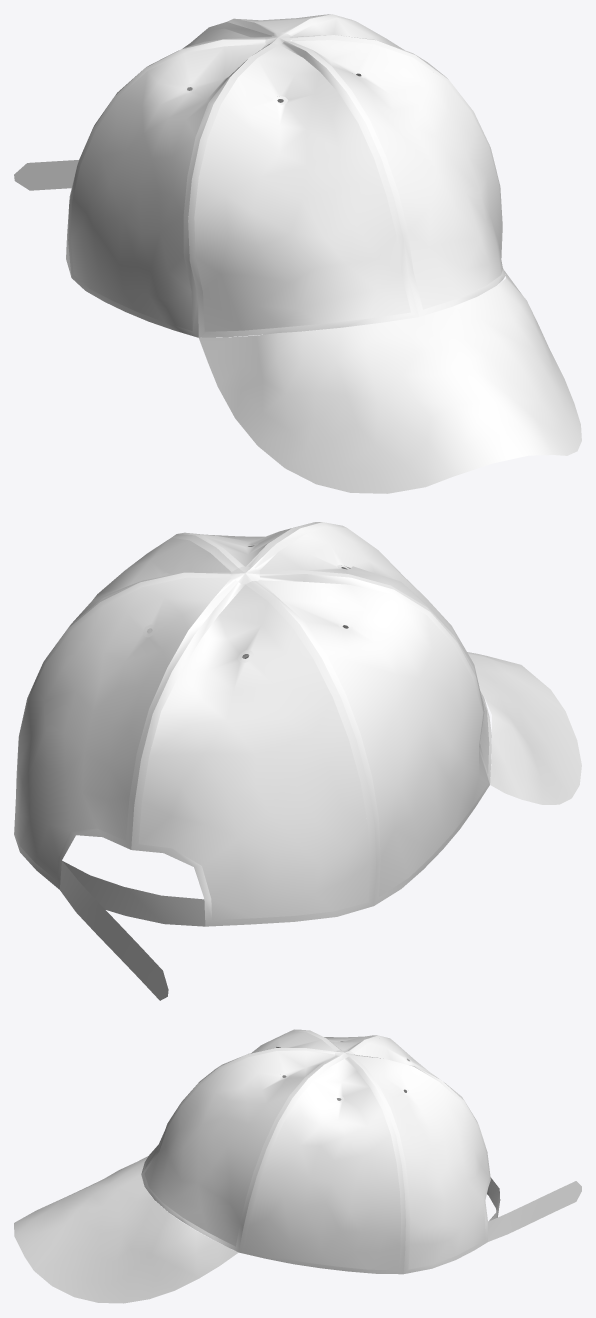
The model's file is final_cap.glb.
3 views of the same model, one above another, from view 1: azimuth 30°, elevation 25°; view 2: azimuth 150°, elevation 25°; view 3: azimuth 270°, elevation 25° (orthographic). The views are drawn at different scales.
Parts seen in each view (by area): view 1: FRONT, BODY_F_L, BODY_L, BODY_F_R, F_OL_L, L_OL, F_OL_R, TAIL, RIGHT_BODY, B_OL_L, BODY_B_L; view 2: BODY_B_L, BODY_L, BODY_B_R, FRONT, B_OL_L, BODY_F_L, L_OL, B_OL_R, TAIL, ADJUSTER, RIGHT_BODY, F_OL_L (+3 smaller); view 3: RIGHT_BODY, FRONT, BODY_F_R, BODY_B_R, R_OL, F_OL_R, B_OL_R, TAIL, BODY_F_L, BODY_B_L, F_OL_L, BODY_L.
Boxes of the visible parts, bbox=[...] form: FRONT: bbox=[199, 271, 581, 493]; BODY_F_L: bbox=[194, 45, 410, 331]; BODY_L: bbox=[70, 44, 265, 330]; BODY_F_R: bbox=[292, 40, 502, 309]; F_OL_L: bbox=[188, 37, 418, 337]; L_OL: bbox=[68, 37, 277, 337]; F_OL_R: bbox=[279, 35, 505, 316]; TAIL: bbox=[14, 160, 78, 190]; RIGHT_BODY: bbox=[292, 17, 444, 75]; B_OL_L: bbox=[66, 22, 277, 276]; BODY_B_L: bbox=[66, 28, 263, 267]; BODY_B_L: bbox=[138, 584, 369, 919]; BODY_L: bbox=[260, 580, 488, 896]; BODY_B_R: bbox=[14, 577, 230, 880]; FRONT: bbox=[243, 652, 581, 804]; B_OL_L: bbox=[131, 573, 375, 926]; BODY_F_L: bbox=[260, 526, 489, 773]; L_OL: bbox=[246, 573, 489, 905]; B_OL_R: bbox=[14, 572, 244, 889]; TAIL: bbox=[60, 861, 168, 1000]; ADJUSTER: bbox=[62, 861, 205, 926]; RIGHT_BODY: bbox=[71, 537, 230, 623]; F_OL_L: bbox=[245, 522, 491, 783]; RIGHT_BODY: bbox=[244, 1059, 400, 1270]; FRONT: bbox=[14, 1156, 238, 1303]; BODY_F_R: bbox=[144, 1050, 334, 1246]; BODY_B_R: bbox=[355, 1056, 489, 1269]; R_OL: bbox=[239, 1053, 405, 1274]; F_OL_R: bbox=[141, 1048, 344, 1252]; B_OL_R: bbox=[345, 1052, 490, 1273]; TAIL: bbox=[488, 1181, 581, 1241]; BODY_F_L: bbox=[145, 1031, 334, 1168]; BODY_B_L: bbox=[354, 1038, 451, 1088]; F_OL_L: bbox=[141, 1029, 344, 1173]; BODY_L: bbox=[277, 1035, 372, 1100].
Bounding box in the file's own units: 0.1731 × 0.1449 × 0.3542.
3 materials, 3 textured.
